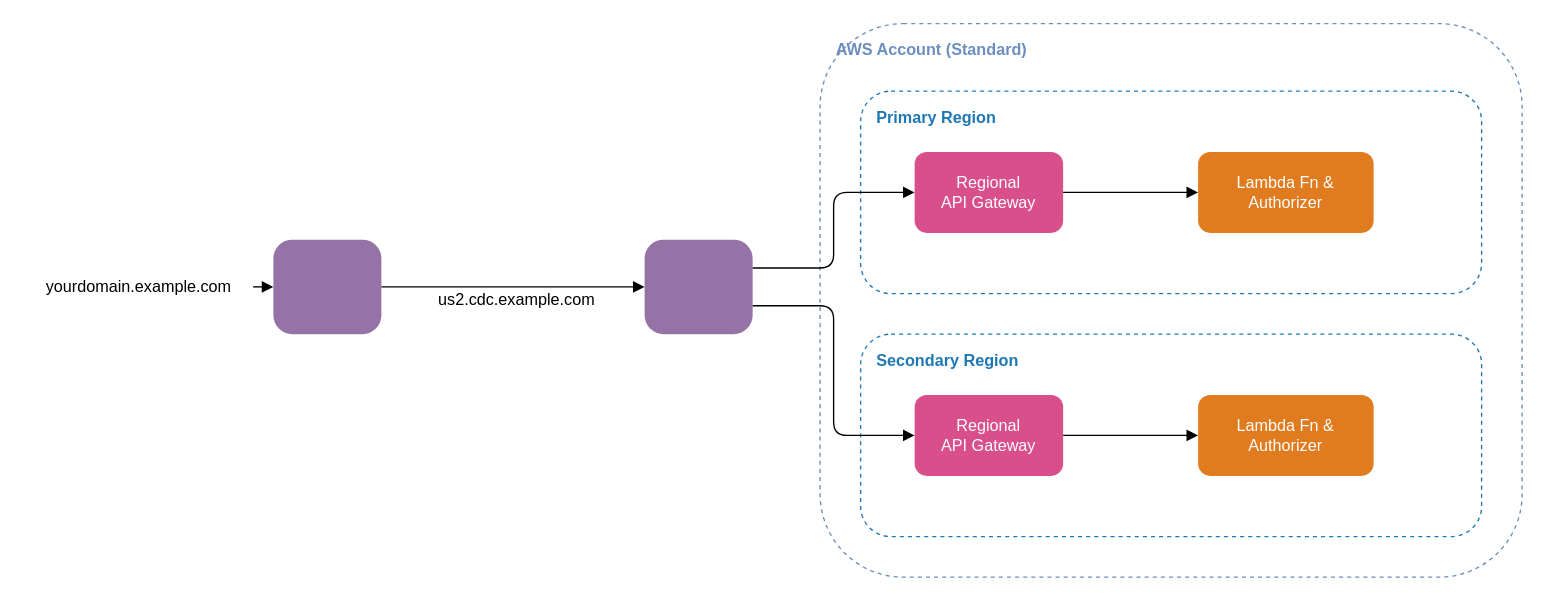
The diagram is 1546 pixels wide and 601 high, and some of its shapes have lost their labels. Each missing label, with the centre of its shape:
"F5 Distributed Cloud" goes at (x=327, y=286).
"Public Route 53" goes at (x=698, y=286).
